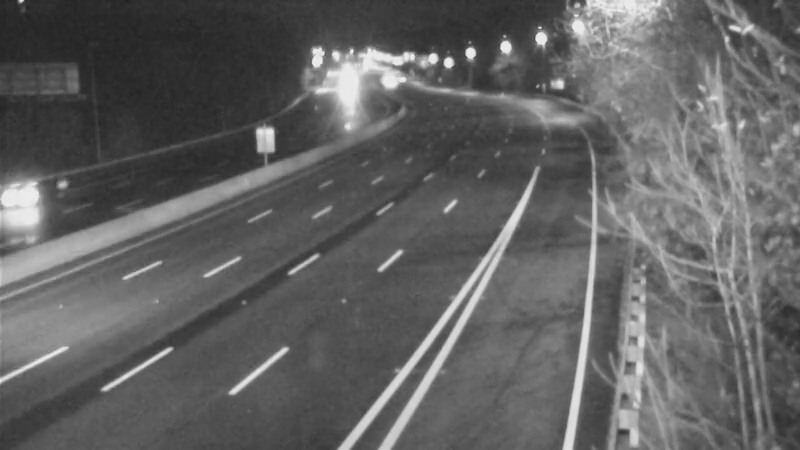vehicle: (1, 156, 76, 236)
